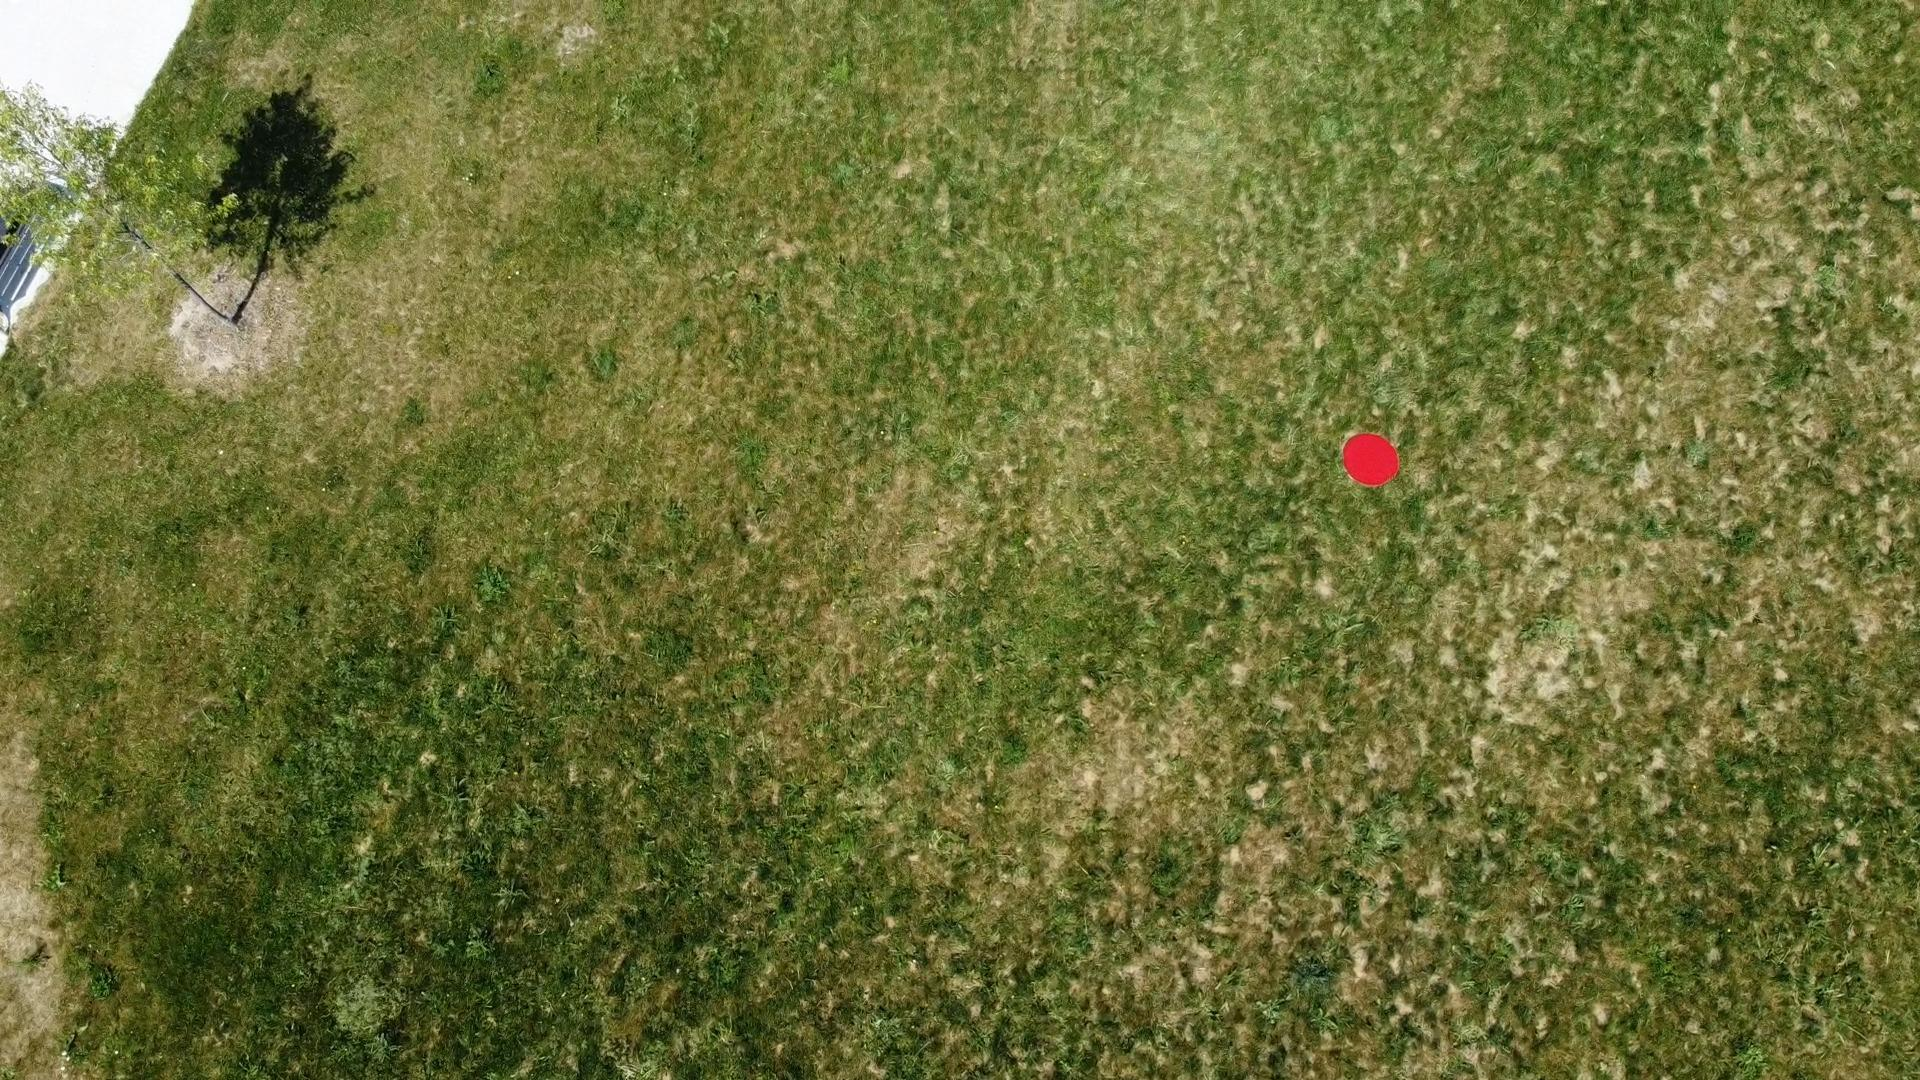Red: (1341, 430, 1402, 489)
